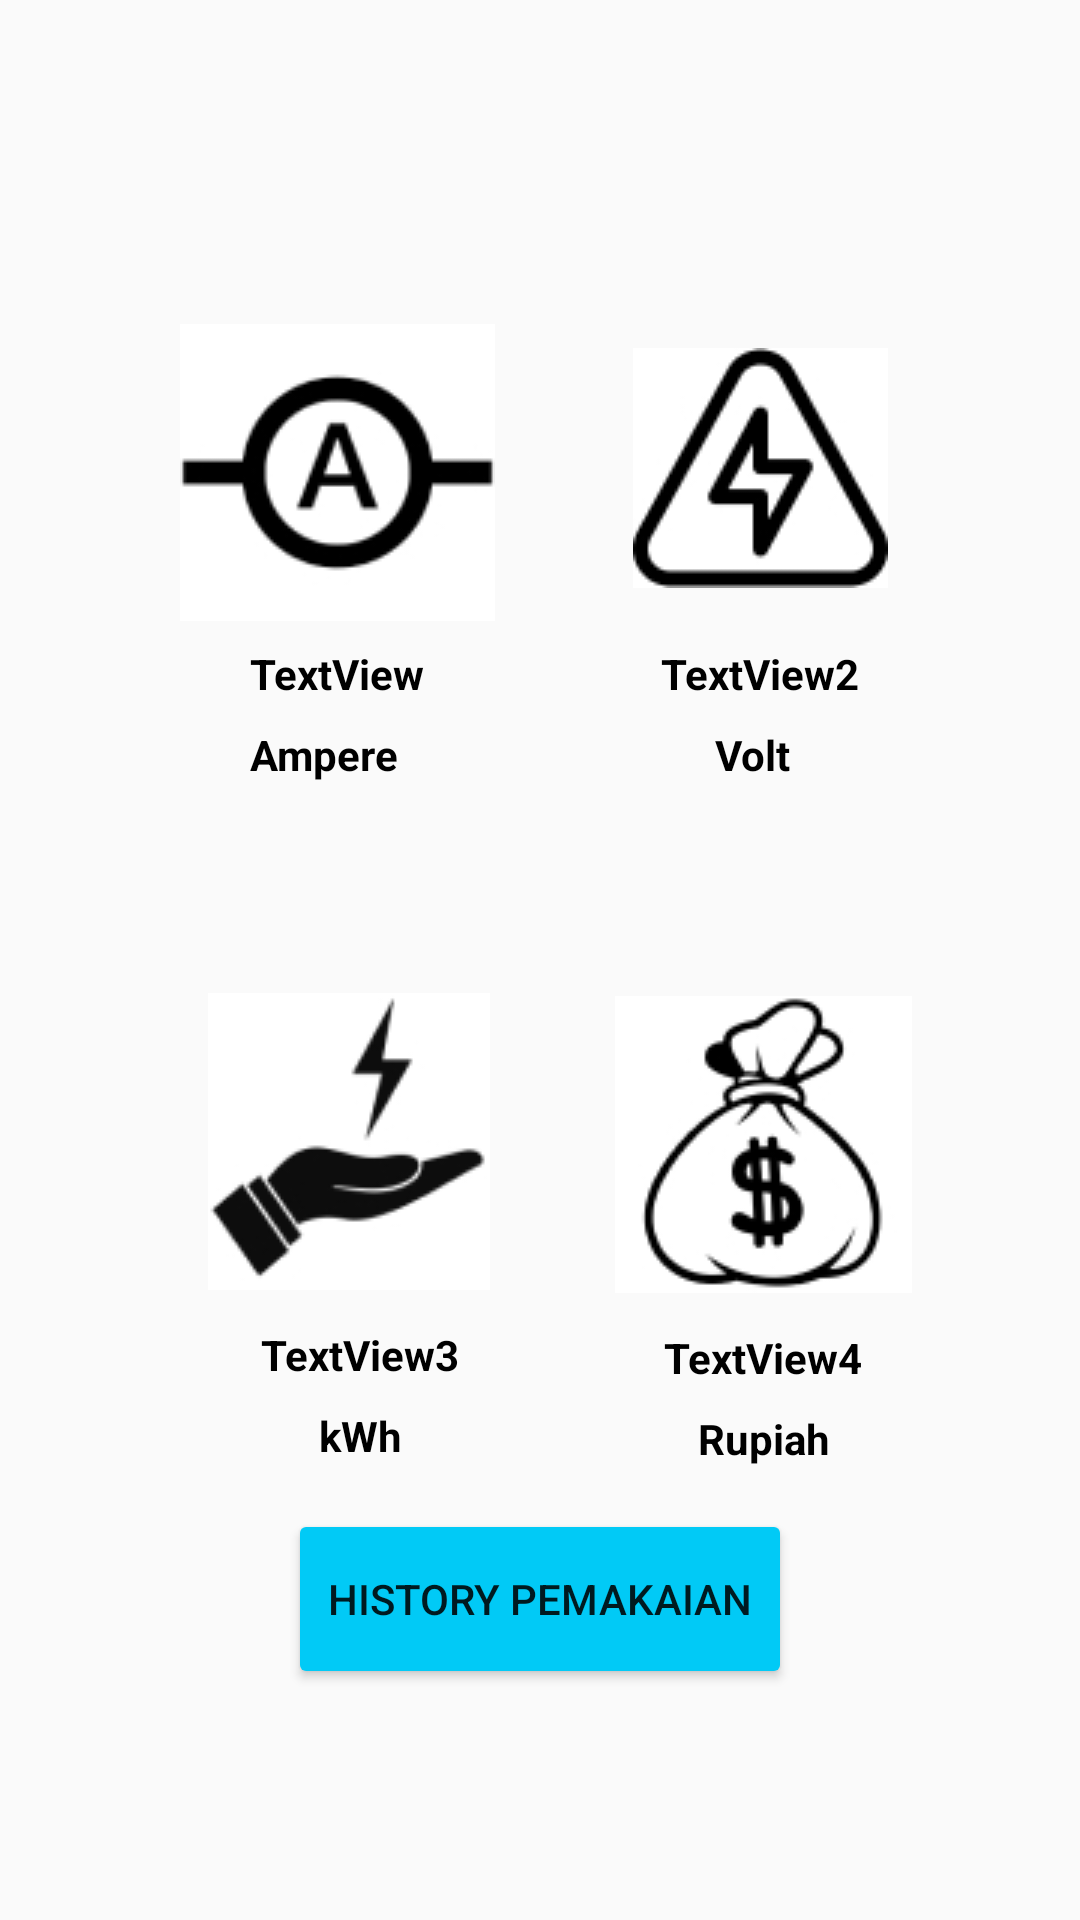

Where to tap for icons on this 1080x1920 app screen, as (x,y):
biaya: (763,1143)
